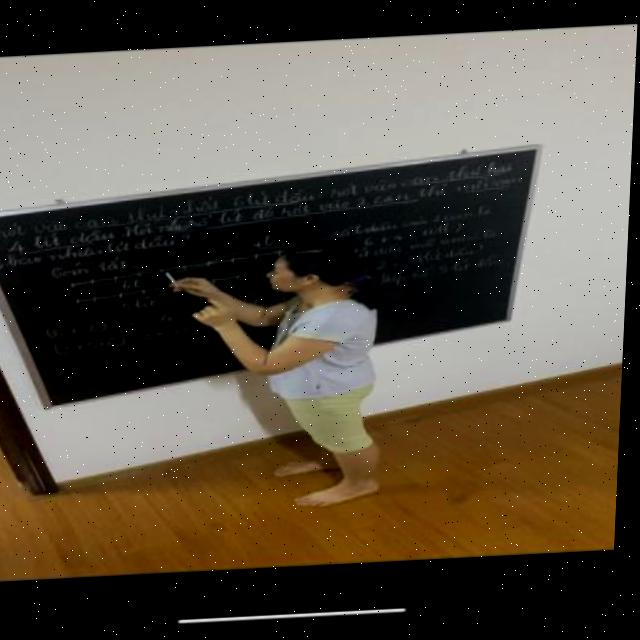cigarette: (165, 273, 179, 286)
